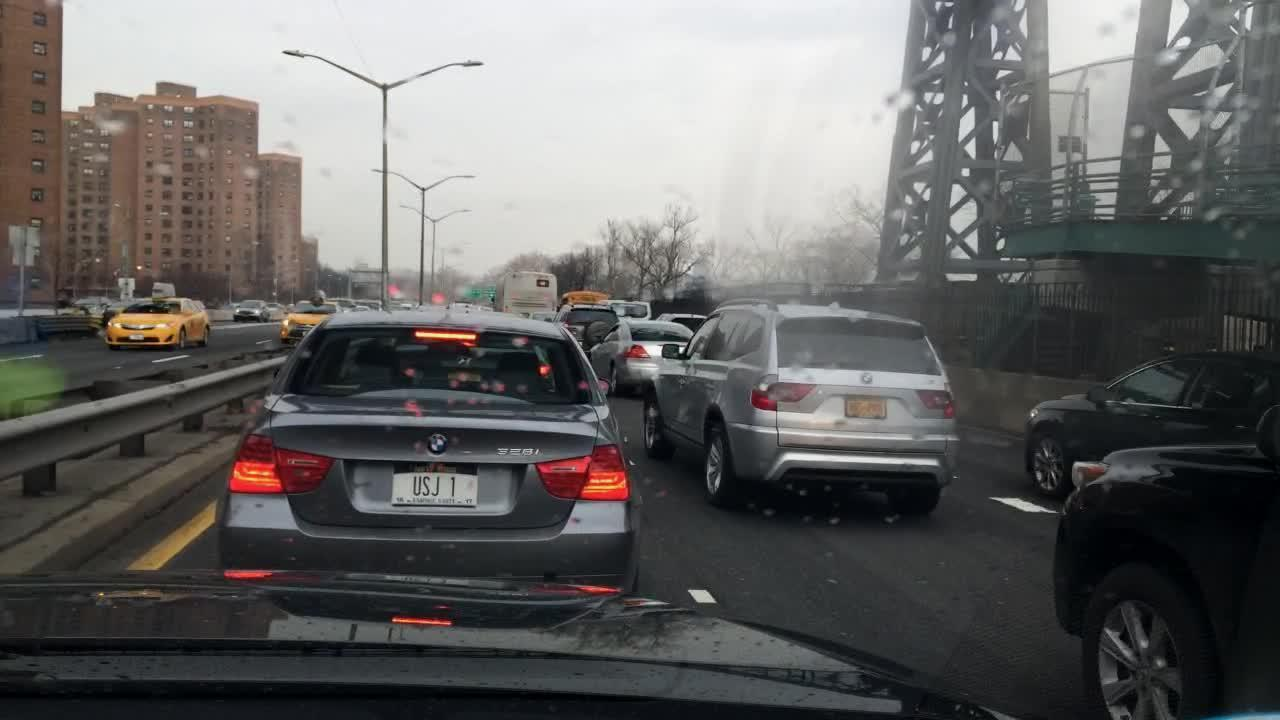bmw: (423, 434, 453, 459), (857, 369, 879, 388)
